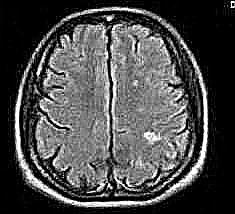Normal_Brain: (1, 1, 235, 214)
